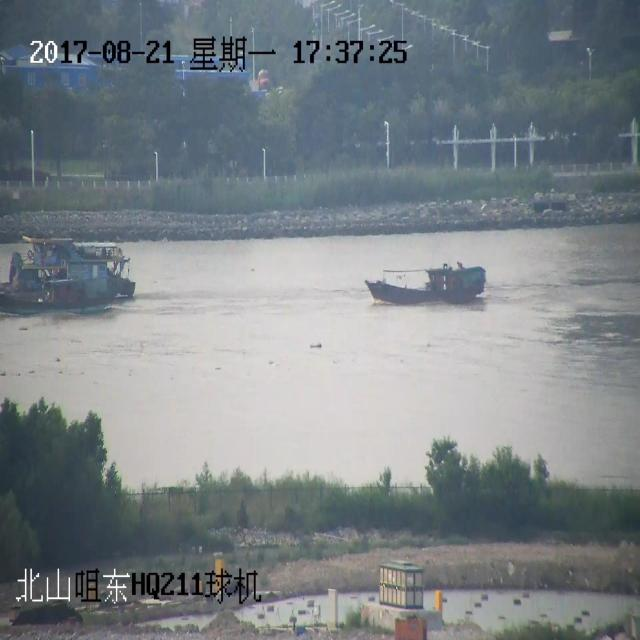cargoship: (3, 233, 173, 324)
fishing boat: (368, 243, 485, 330)
